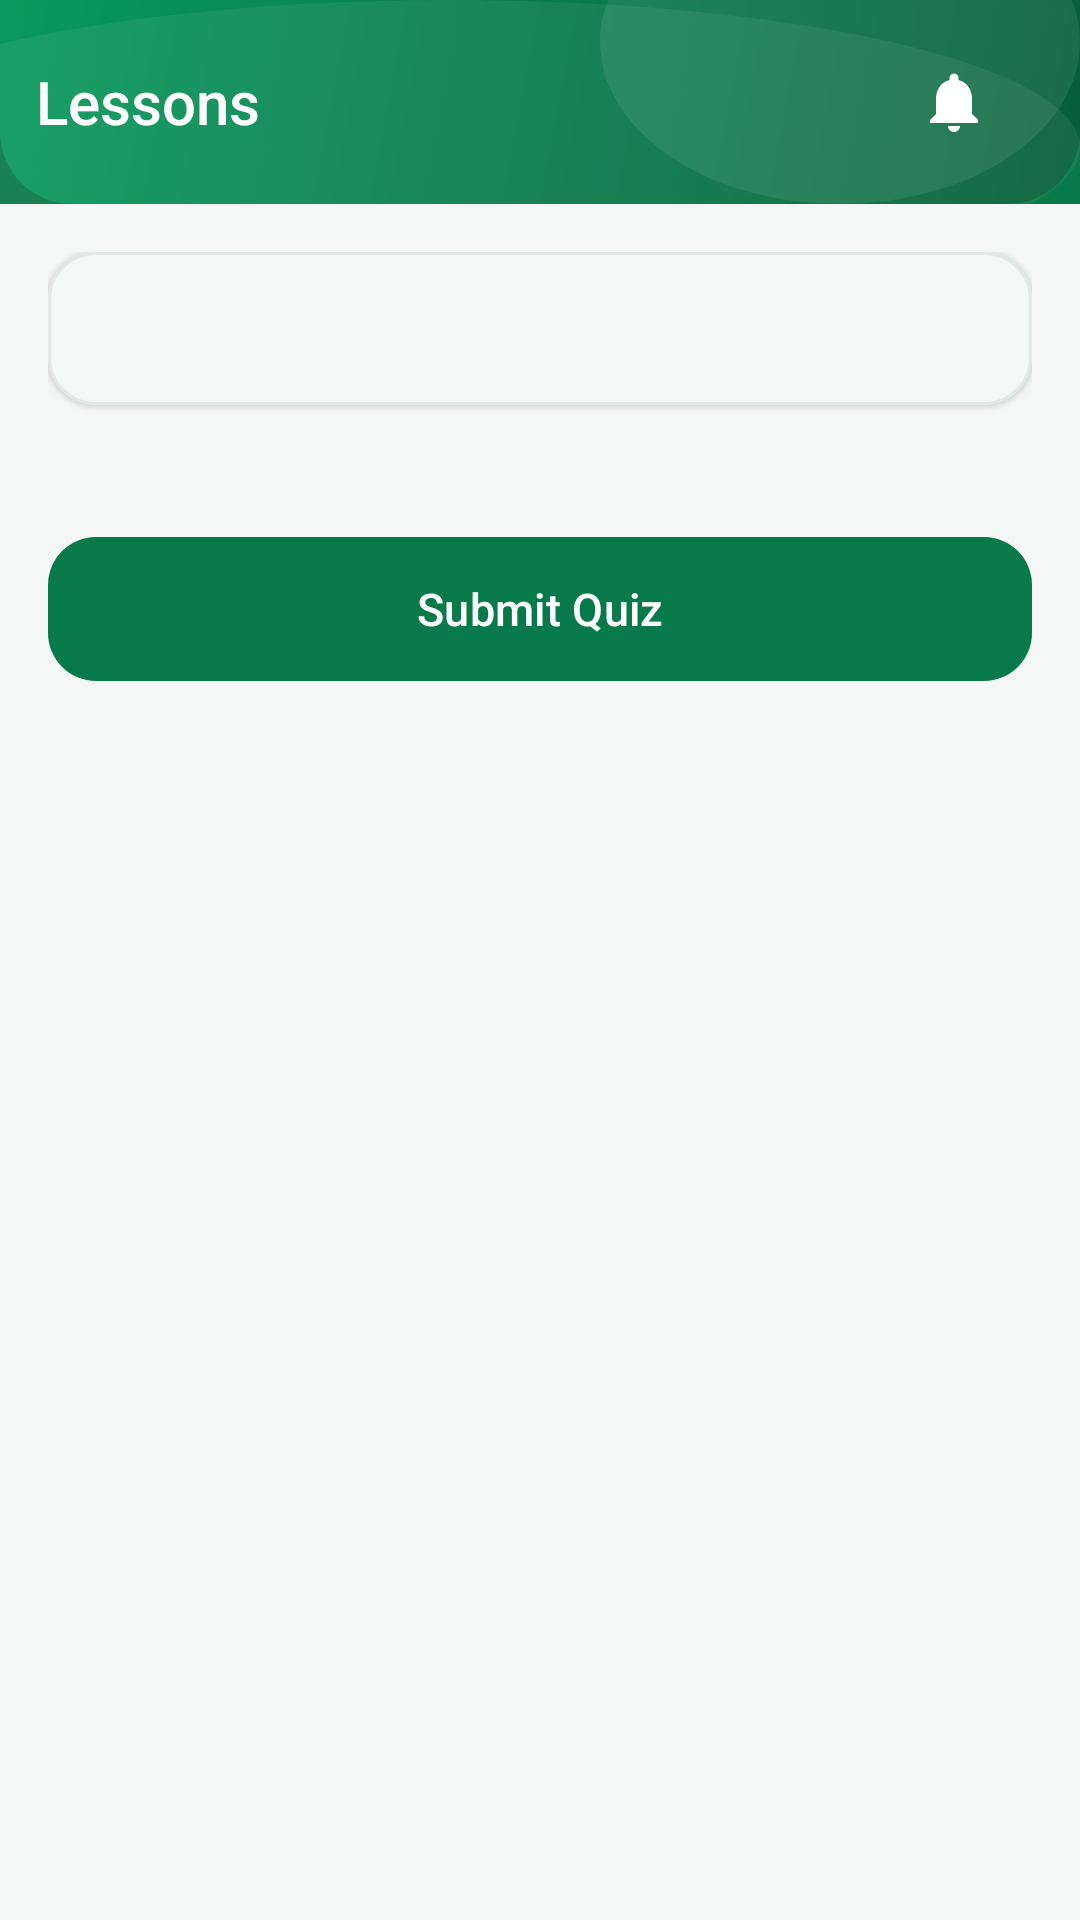

Icons on this 1080*1920 Android screen, each with its box as BBox(x1, y1, x2, y2):
Notifications: BBox(930, 73, 978, 132)
